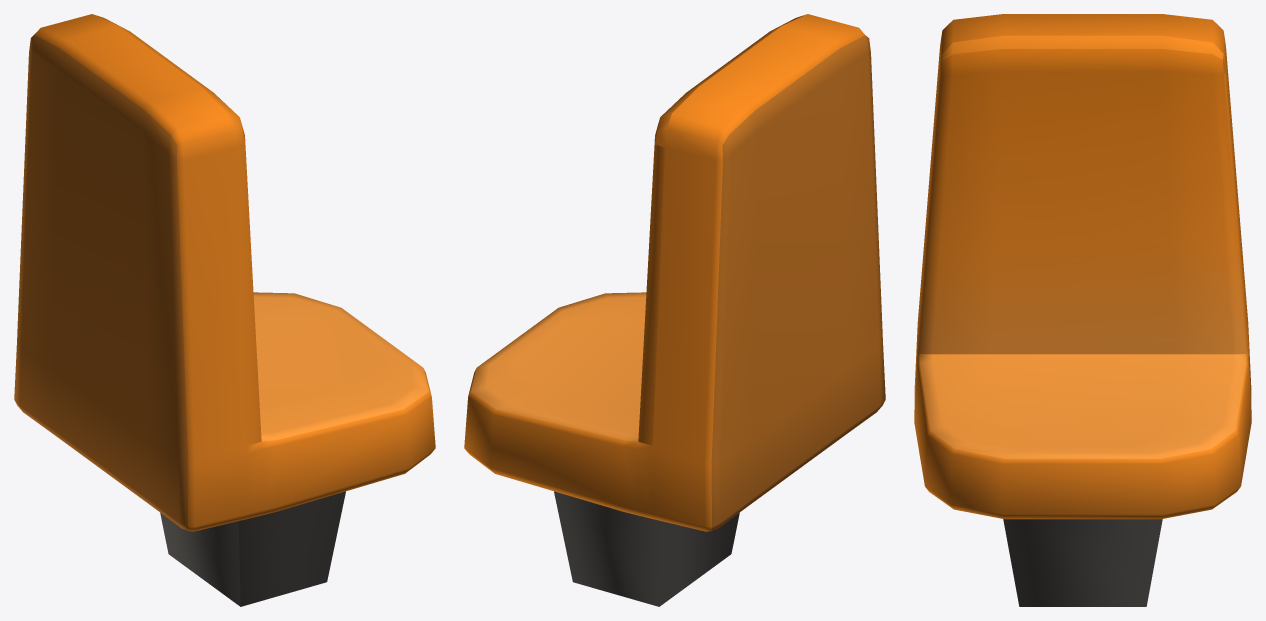
The model's file is Seat.fbx.
3 views of the same model, side by side, from view 1: azimuth 30°, elevation 25°; view 2: azimuth 150°, elevation 25°; view 3: azimuth 270°, elevation 25° (orthographic). The views are drawn at different scales.
Visible parts, largest first — view 1: seat; view 2: seat; view 3: seat.
Boxes of the visible parts, x1,y1,x2,y2 form: seat: (14, 14, 435, 606); seat: (464, 14, 885, 606); seat: (914, 14, 1251, 606).
Size of the model in its own units: 187 by 332 by 199.
